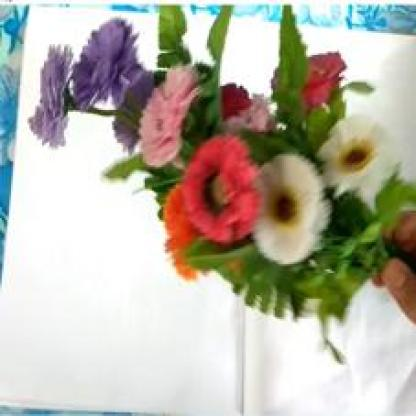flower: (34, 17, 399, 387)
